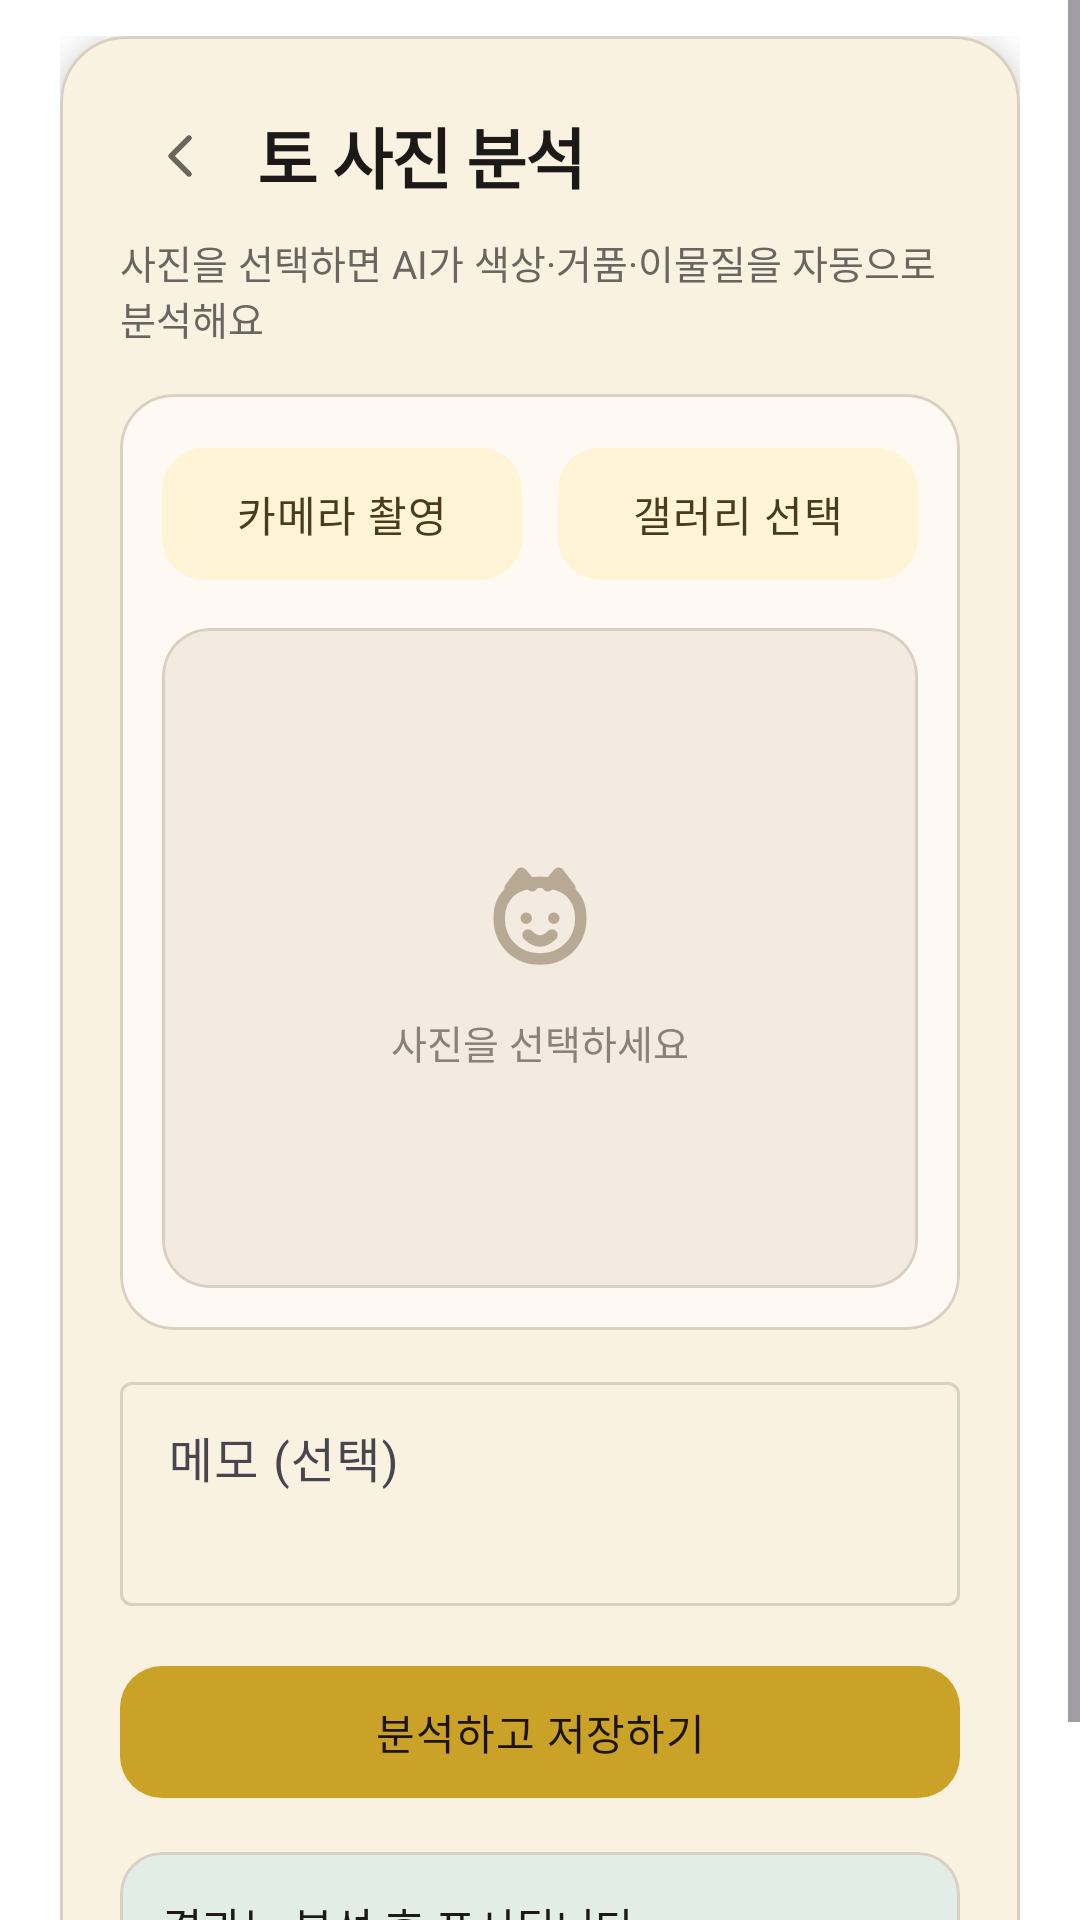

Where icons sit on this 1080 × 1920 app screen, as (x1, y1, x2, y2):
cat: (493, 867, 587, 965)
